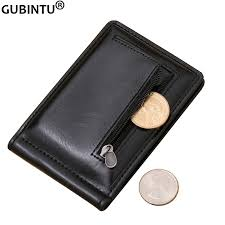monedero: (8, 20, 205, 211)
